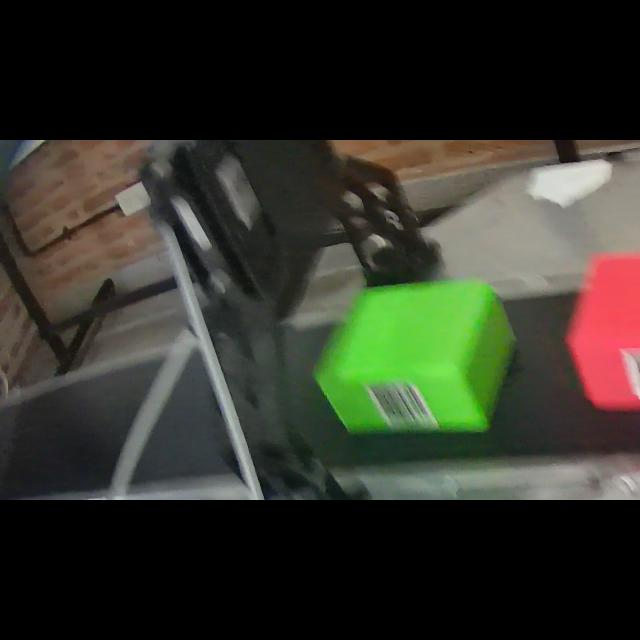greenBox: (309, 277, 516, 438)
redBox: (558, 245, 640, 417)
